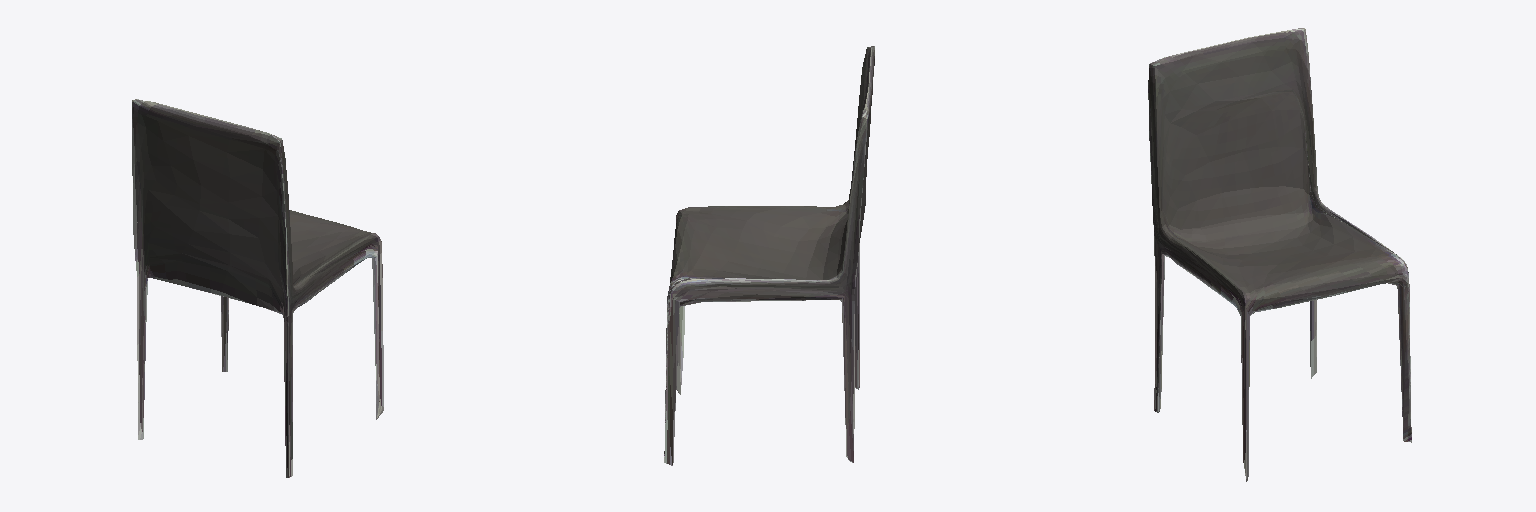
3 renders of one model, left to right at view 1: azimuth 30°, elevation 25°; view 2: azimuth 150°, elevation 25°; view 3: azimuth 270°, elevation 25°, orthographic.
Bounding box in the file's own units: 0.6577 × 1 × 0.6736.
Materials: 1 (1 with a texture image).